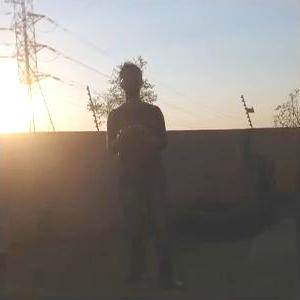follow: (104, 53, 190, 287)
